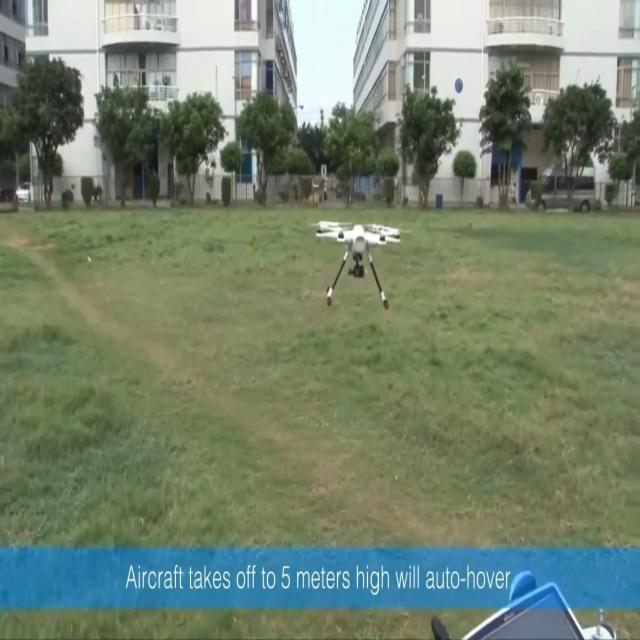drone: (310, 219, 401, 311)
